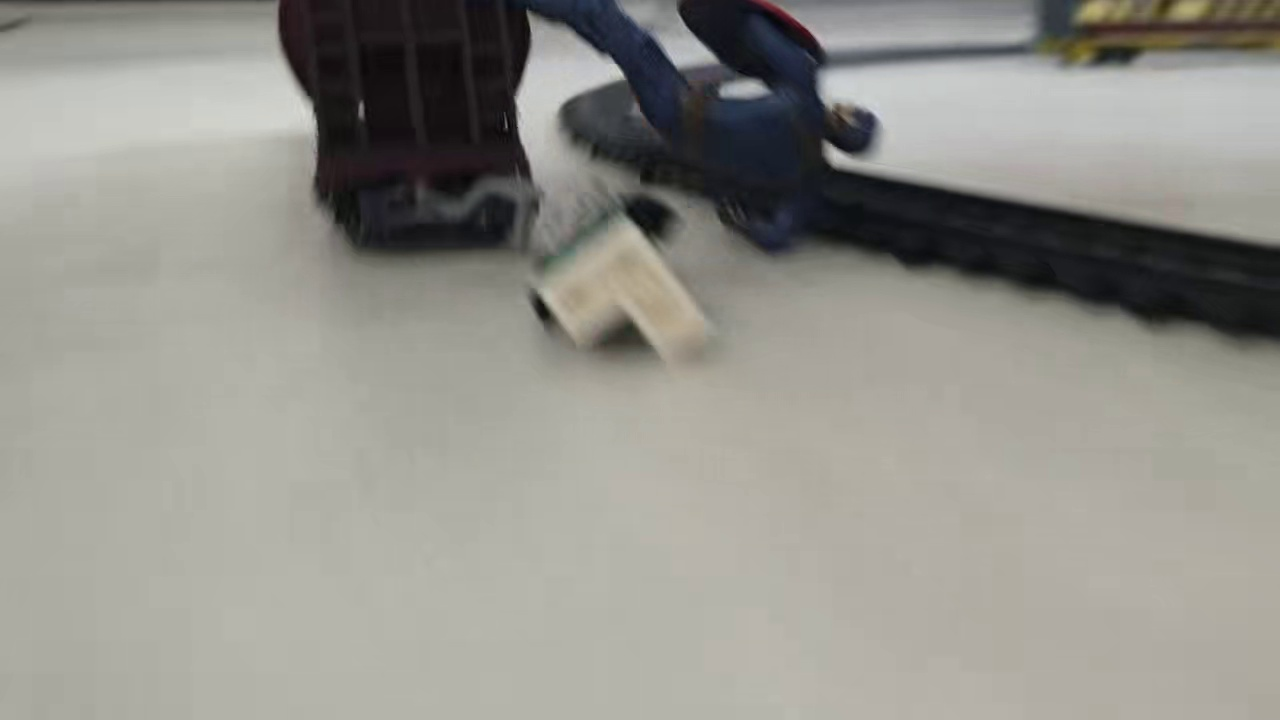people: (531, 1, 879, 253), (523, 187, 720, 362)
